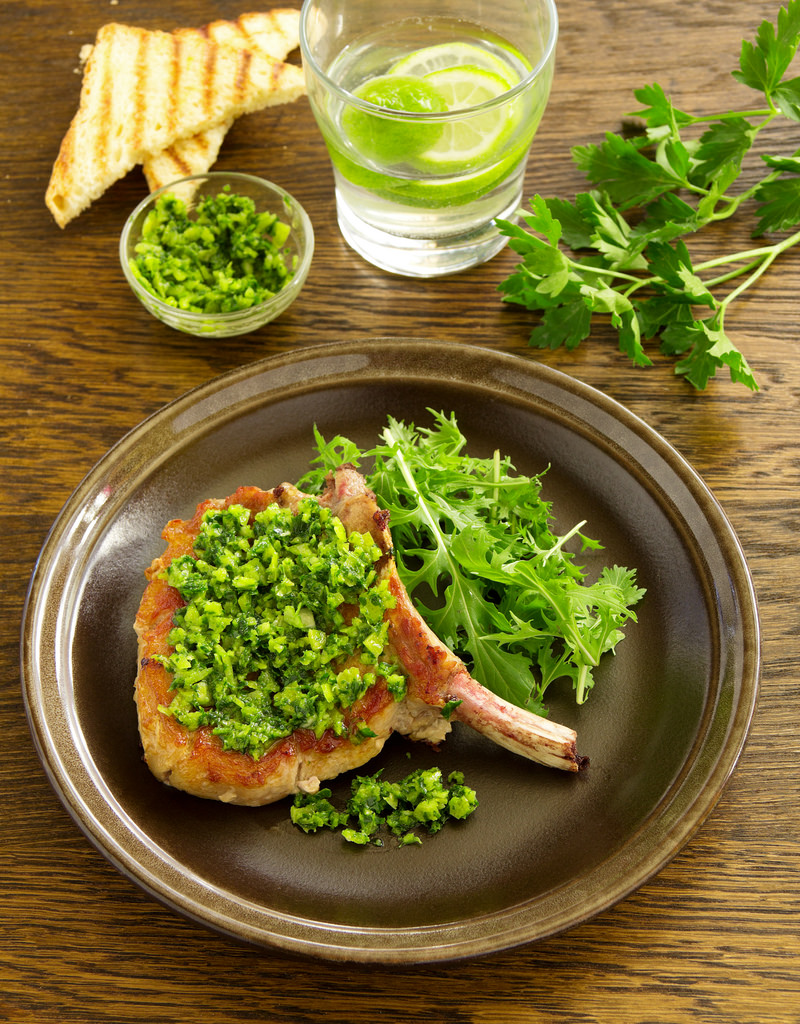glass of water: (305, 3, 561, 294)
slice of bread: (41, 1, 299, 222)
